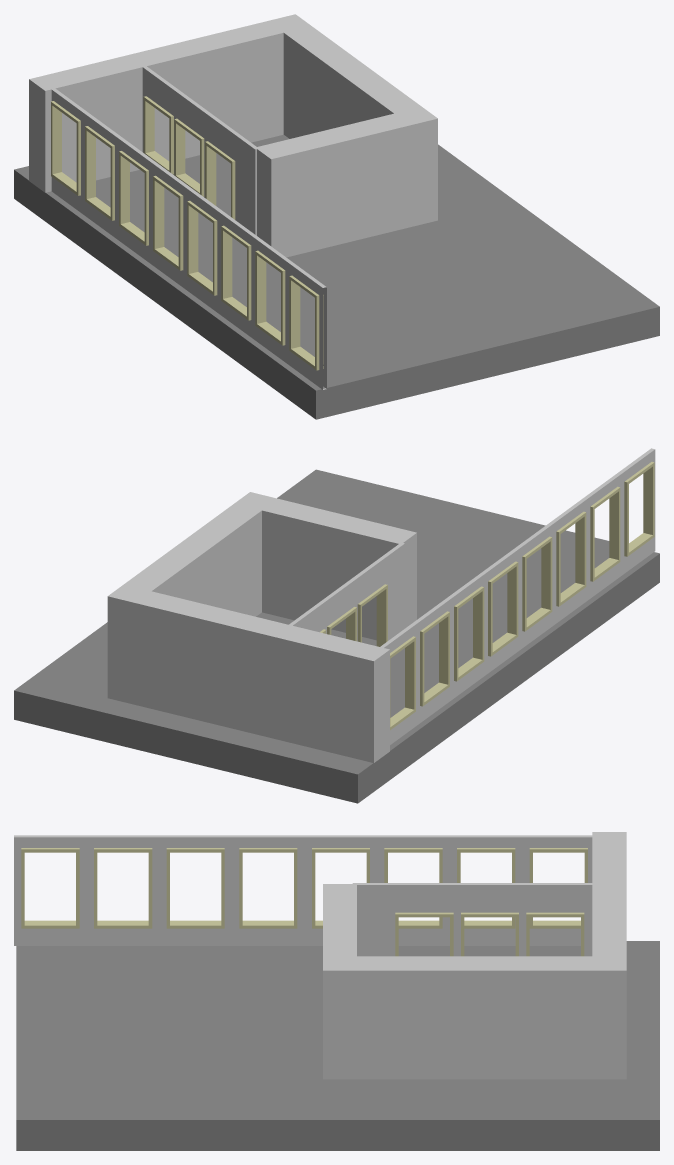
File: Lecture.fbx
The picture shows the model from 3 angles, top to bottom: view 1: azimuth 30°, elevation 25°; view 2: azimuth 150°, elevation 25°; view 3: azimuth 270°, elevation 25°; orthographic projection. The views are drawn at different scales.
Parts seen in each view (by area): view 1: Floor, MainWalls, InnerWall.001, InnerWall; view 2: MainWalls, Floor, InnerWall.001, InnerWall; view 3: Floor, MainWalls, InnerWall.001, InnerWall.
Boxes of the visible parts, box(x1,y1,x2,y2) form: Floor: box(14, 134, 659, 419); MainWalls: box(29, 14, 437, 257); InnerWall.001: box(51, 88, 326, 389); InnerWall: box(142, 66, 256, 235); MainWalls: box(107, 492, 416, 762); Floor: box(14, 469, 659, 803); InnerWall.001: box(380, 448, 655, 744); InnerWall: box(272, 543, 404, 739); Floor: box(16, 941, 659, 1150); MainWalls: box(323, 832, 626, 1079); InnerWall.001: box(14, 835, 592, 945); InnerWall: box(352, 883, 592, 956).
Size of the model in its own units: 1238 by 450 by 1887.
